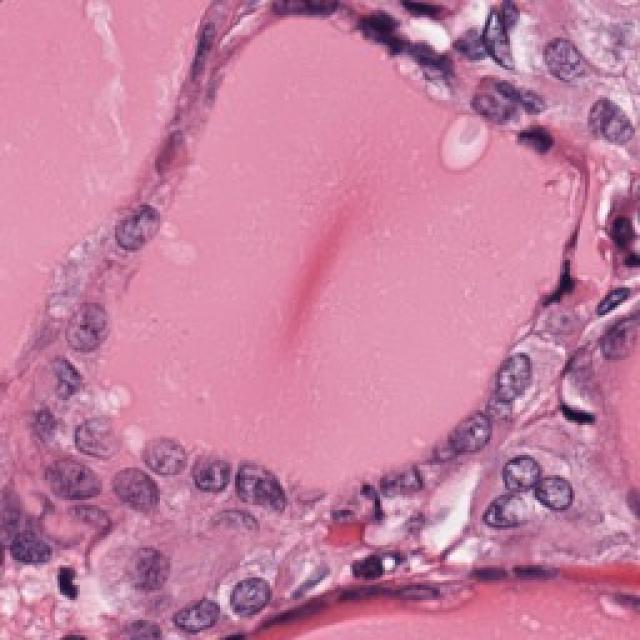abnormal: (35, 430, 115, 523), (50, 282, 130, 368), (105, 187, 180, 277), (464, 62, 528, 166), (93, 455, 172, 537), (211, 566, 291, 640), (485, 478, 555, 562), (60, 398, 130, 480), (525, 465, 598, 543), (442, 383, 505, 473), (483, 345, 555, 423), (140, 417, 188, 495)
